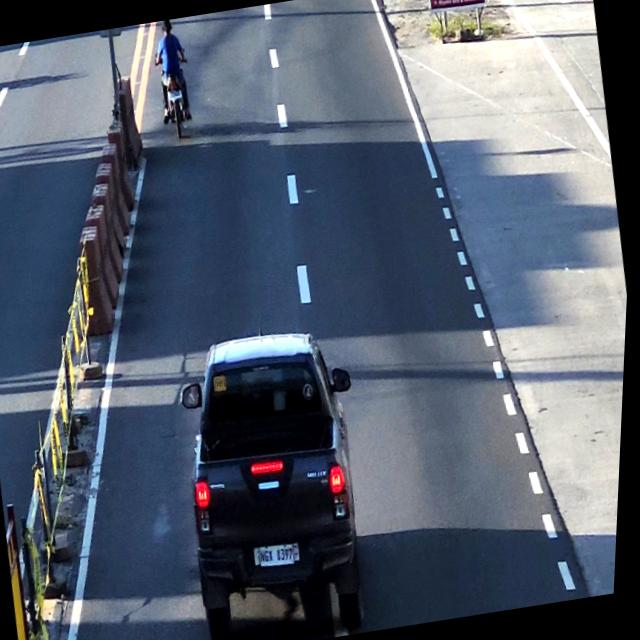Car: (168, 319, 385, 640)
License-Plate: (261, 542, 303, 571), (169, 85, 187, 102)
Motorcycle: (147, 18, 204, 138)
